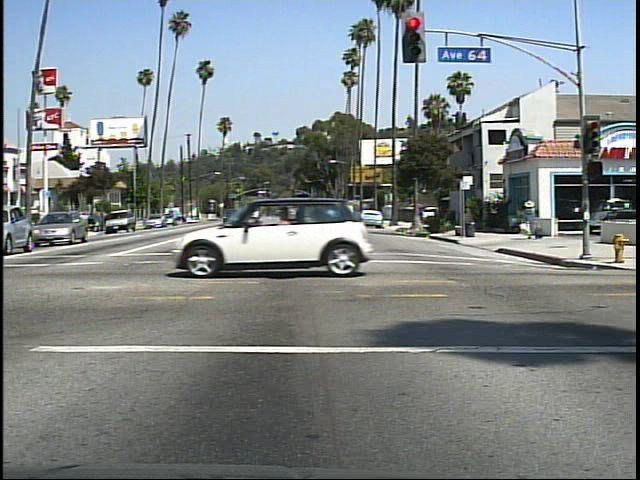person: (518, 195, 545, 243)
